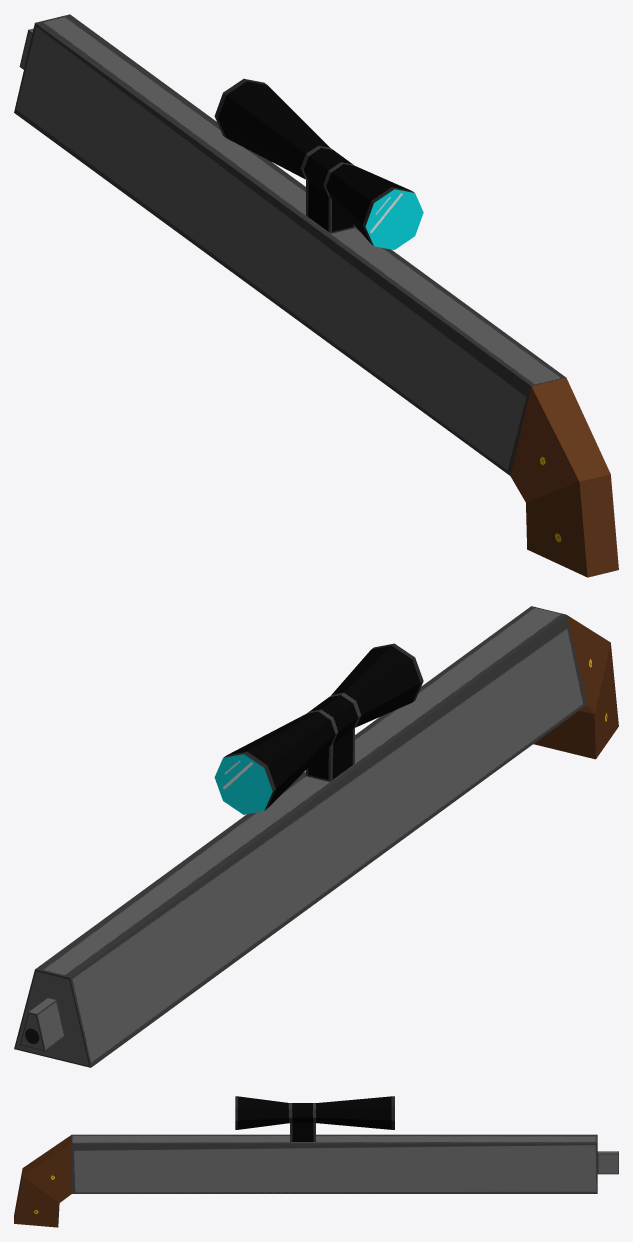
Rendered from sniper.glb.
The picture shows the model from 3 angles, top to bottom: view 1: azimuth 30°, elevation 25°; view 2: azimuth 150°, elevation 25°; view 3: azimuth 270°, elevation 25°; orthographic projection. The views are drawn at different scales.
Parts seen in each view (by area): view 1: Sniper; view 2: Sniper; view 3: Sniper.
Boxes of the visible parts, x1,y1,x2,y2 form: Sniper: (14,14,618,577); Sniper: (14,606,618,1067); Sniper: (14,1096,618,1227).
Bounding box in the file's own units: 1.43 × 4.11 × 18.34.
Materials: 1 (1 with a texture image).
